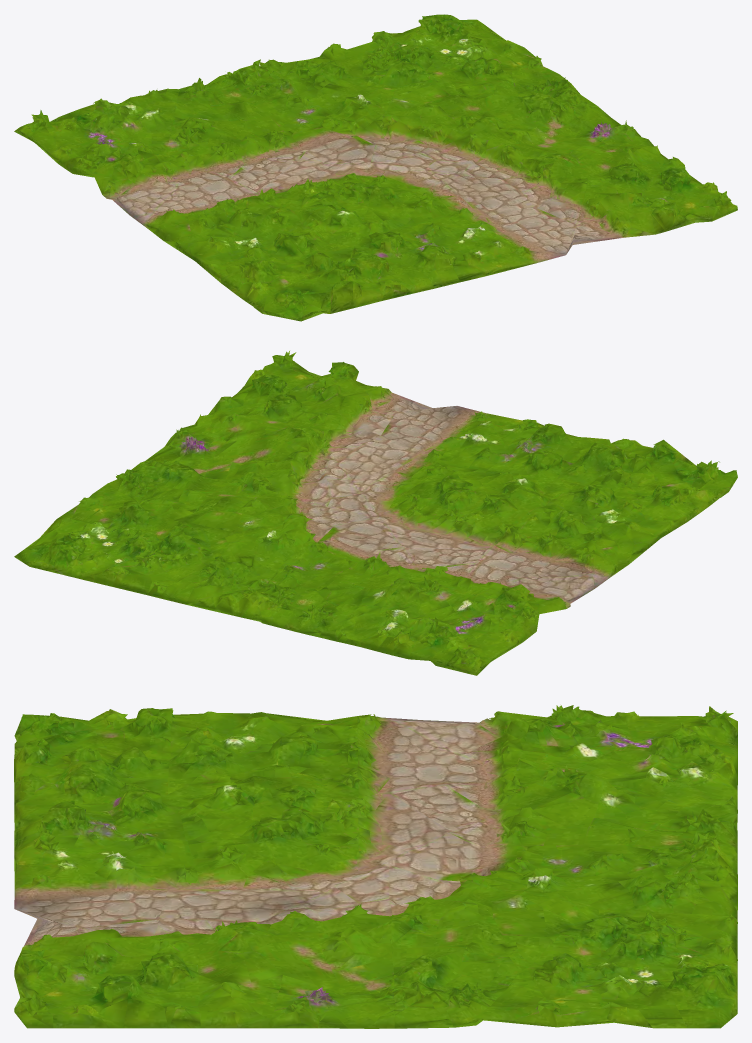
Rendered from corner.glb.
The picture shows the model from 3 angles, top to bottom: view 1: azimuth 30°, elevation 25°; view 2: azimuth 150°, elevation 25°; view 3: azimuth 270°, elevation 25°; orthographic projection. The views are drawn at different scales.
Size of the model in its own units: 1.9 by 0.0902 by 1.89.
1 material, 1 textured.
